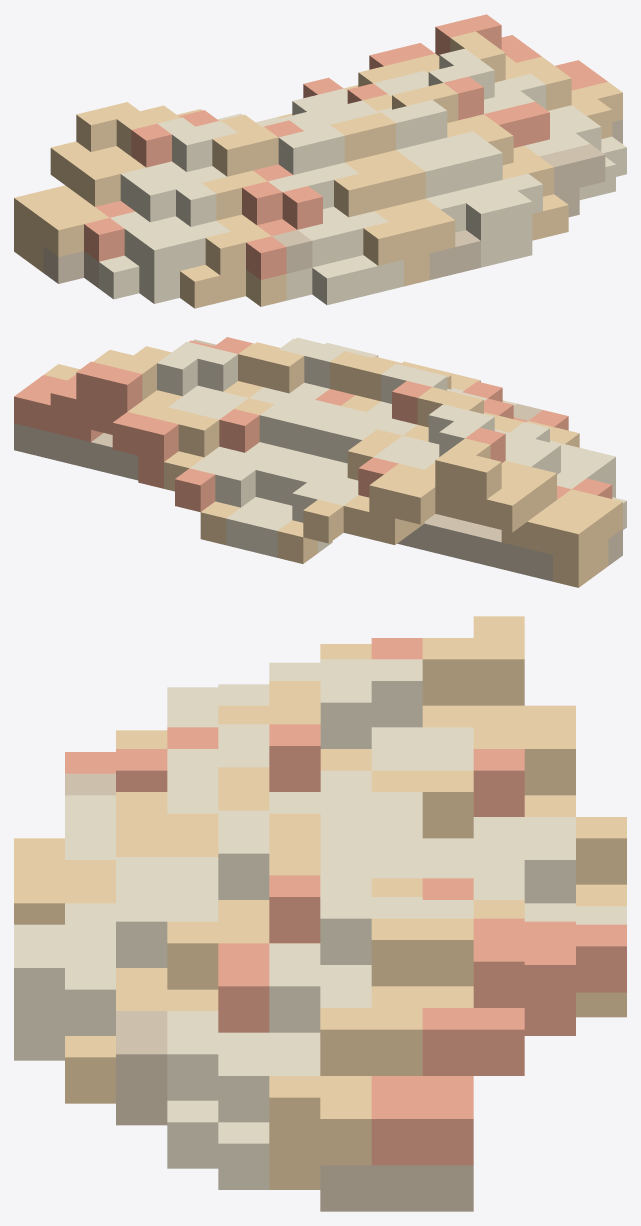
The model's file is scallop_shell.glb.
The picture shows the model from 3 angles, top to bottom: view 1: azimuth 30°, elevation 25°; view 2: azimuth 150°, elevation 25°; view 3: azimuth 270°, elevation 25°; orthographic projection. The views are drawn at different scales.
Size of the model in its own units: 0.9167 by 0.1667 by 0.5.
